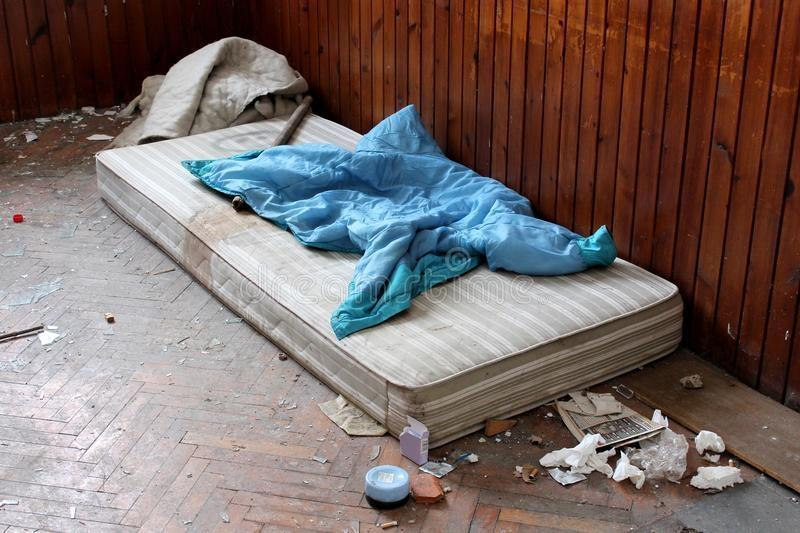Bed-Mattress: (73, 105, 691, 460)
